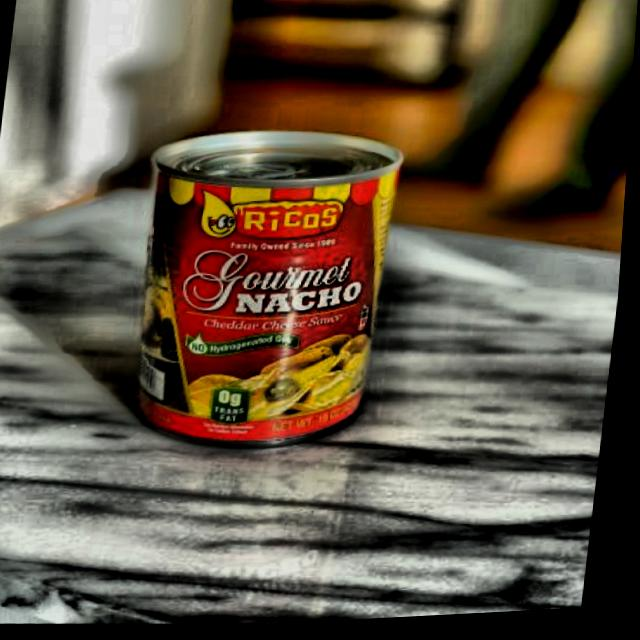Cans: (103, 101, 447, 489)
